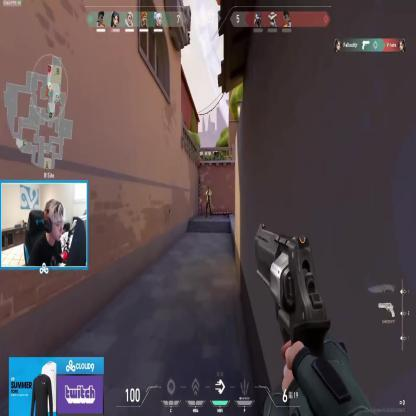enemy: (204, 186, 212, 219)
enemy_head: (207, 186, 210, 192)
